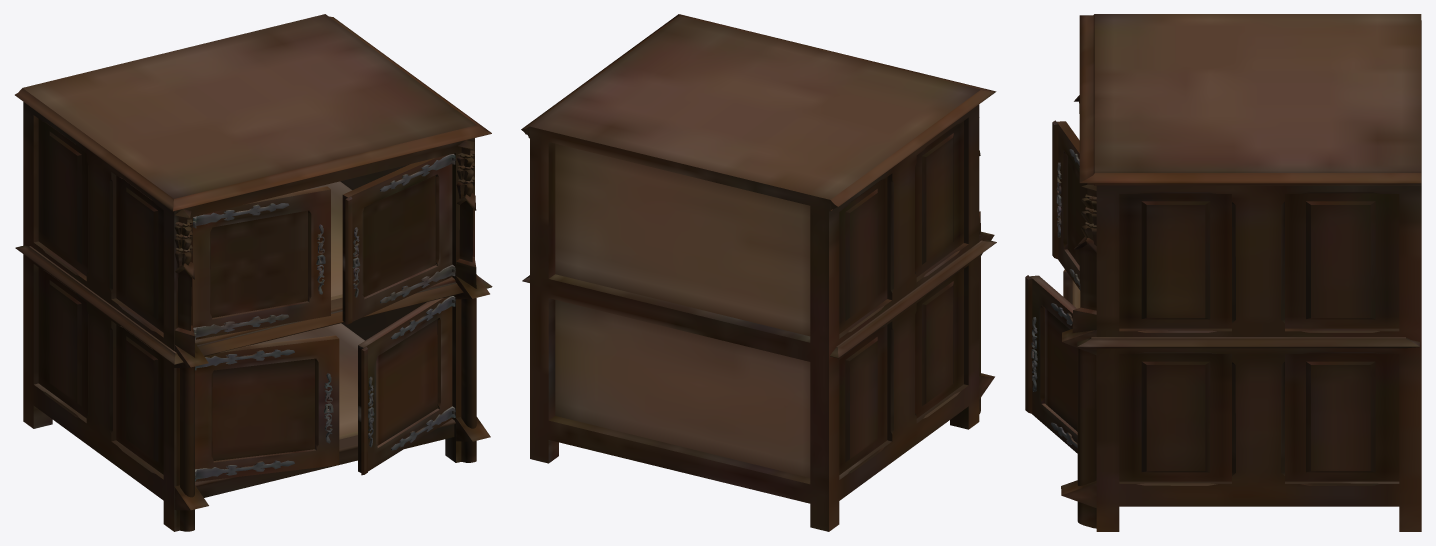
File: ph-gothiccabinet-01.glb
The picture shows the model from 3 angles, left to right: view 1: azimuth 30°, elevation 25°; view 2: azimuth 150°, elevation 25°; view 3: azimuth 270°, elevation 25°; orthographic projection. The views are drawn at different scales.
Parts seen in each view (by area): view 1: GothicCabinet_01_cabinet; view 2: GothicCabinet_01_cabinet; view 3: GothicCabinet_01_cabinet.
Boxes of the visible parts, bbox=[...] form: GothicCabinet_01_cabinet: bbox=[15, 14, 492, 531]; GothicCabinet_01_cabinet: bbox=[521, 14, 996, 531]; GothicCabinet_01_cabinet: bbox=[1025, 14, 1421, 531].
Size of the model in its own units: 1 by 1 by 1.
1 material, 1 textured.
